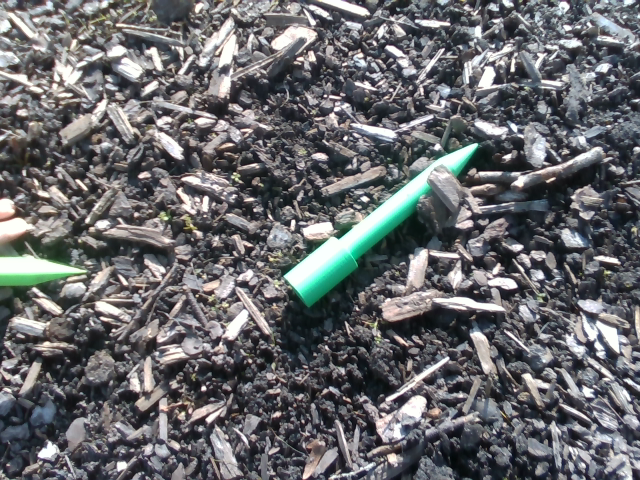Probe: (279, 127, 490, 315), (1, 245, 99, 298)
